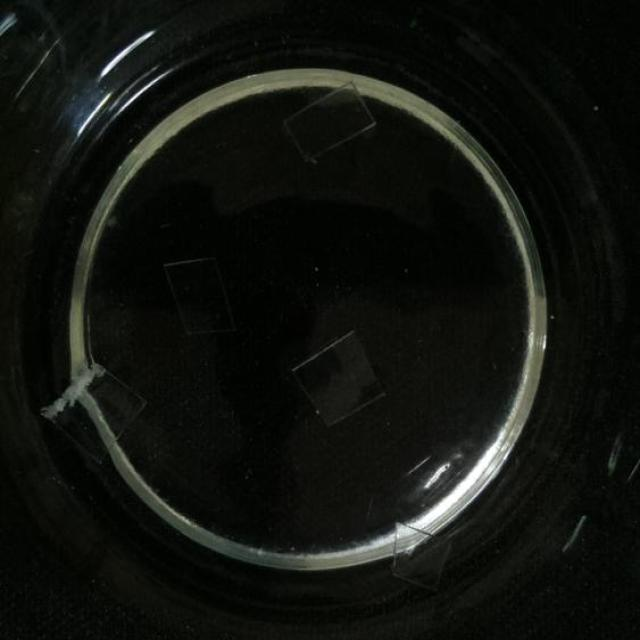fiber: (291, 332, 389, 430), (42, 370, 144, 459), (279, 82, 379, 158), (162, 255, 232, 336), (391, 519, 452, 595)
